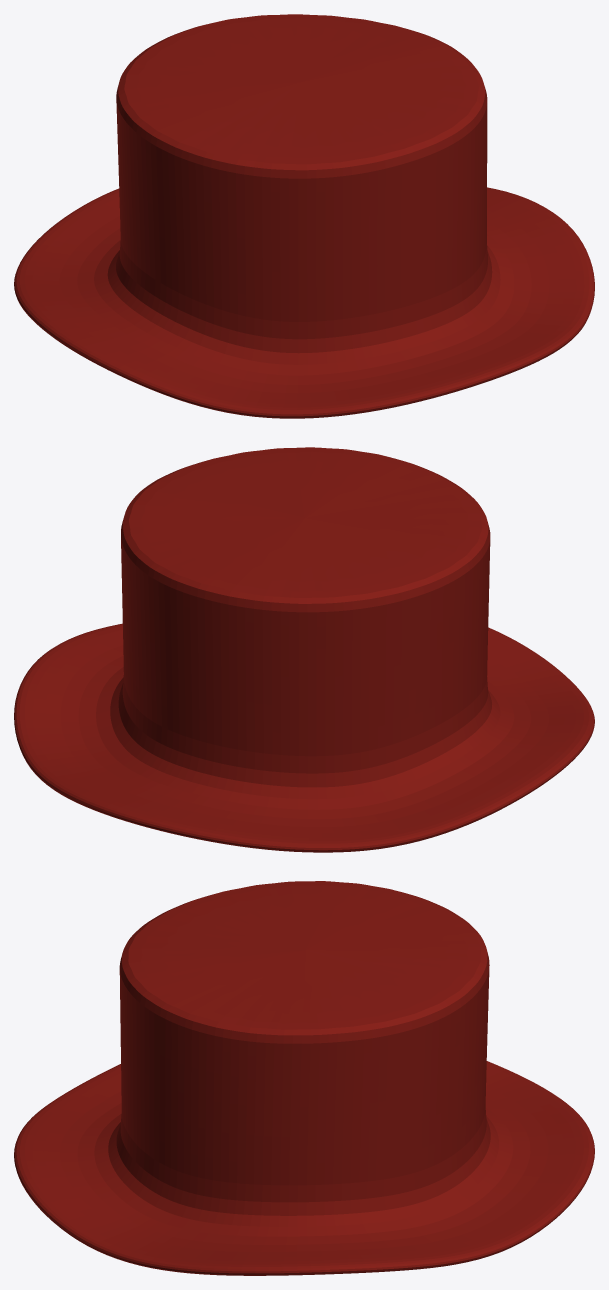
File: token2.fbx
The picture shows the model from 3 angles, top to bottom: view 1: azimuth 30°, elevation 25°; view 2: azimuth 150°, elevation 25°; view 3: azimuth 270°, elevation 25°; orthographic projection.
Parts seen in each view (by area): view 1: top head.003; view 2: top head.003; view 3: top head.003.
Part boxes in pixels (x1,y1,x2,y2): top head.003: (14,14,594,418); top head.003: (14,447,594,852); top head.003: (14,881,594,1275).
Size of the model in its own units: 10.71 by 4.42 by 10.68.
